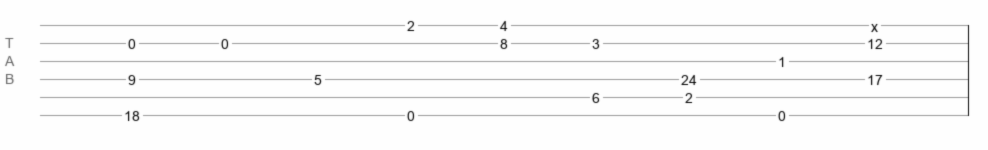0: (128, 36, 136, 46), (221, 36, 229, 46), (407, 108, 415, 118), (778, 108, 786, 118)
1: (778, 54, 786, 64)
12: (867, 36, 883, 46)
17: (867, 72, 883, 82)
18: (124, 108, 140, 118)
2: (407, 18, 415, 28), (685, 90, 693, 100)
24: (681, 72, 697, 82)
3: (592, 36, 600, 46)
4: (500, 18, 508, 28)
5: (314, 72, 322, 82)
6: (592, 90, 600, 100)
8: (500, 36, 508, 46)
9: (128, 72, 136, 82)
x: (871, 19, 878, 27)
